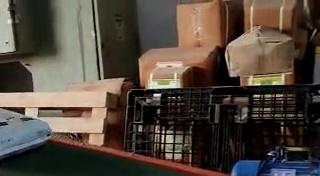box: (0, 108, 51, 159)
